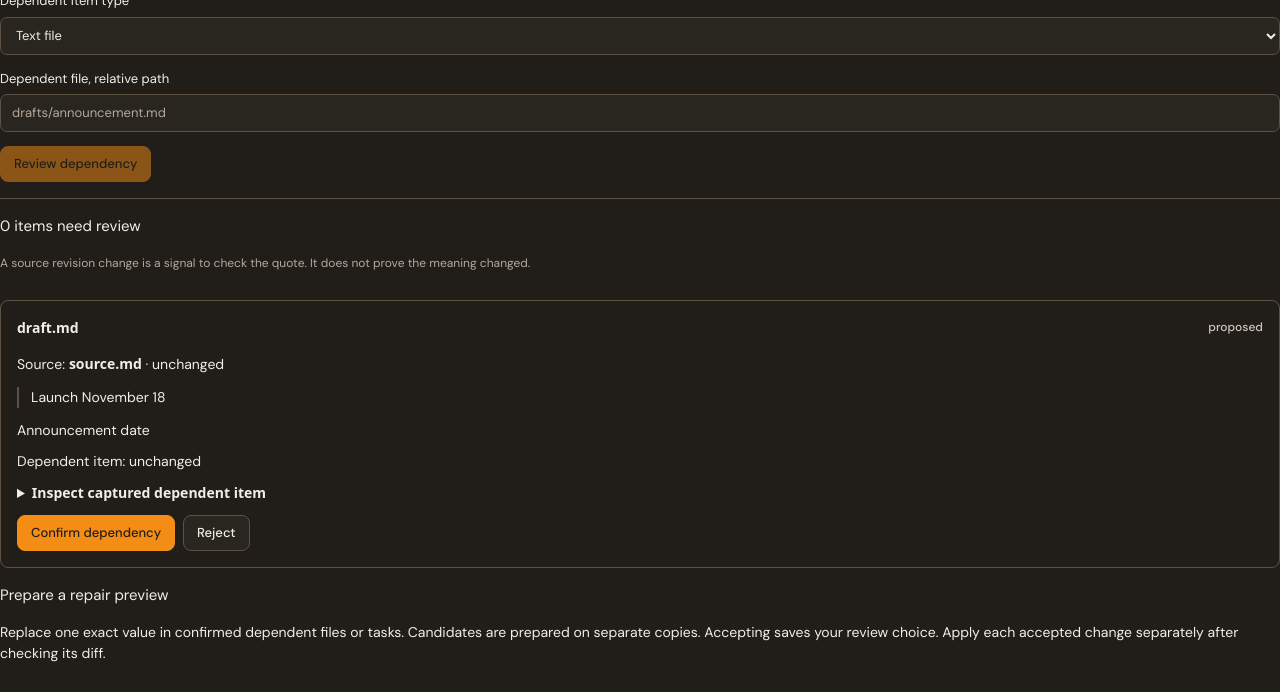
Scenario: shows quote and dependent preview before confirmation and exposes changed-source impact
The width and height of the screenshot is (1280, 692).
(page scrolled)
Expected: the text "Announcement date" is shown, [17,421,150,439]
Step 1. Click the button "Confirm dependency" → (96, 533), box [17,515,175,551]
(page scrolled)
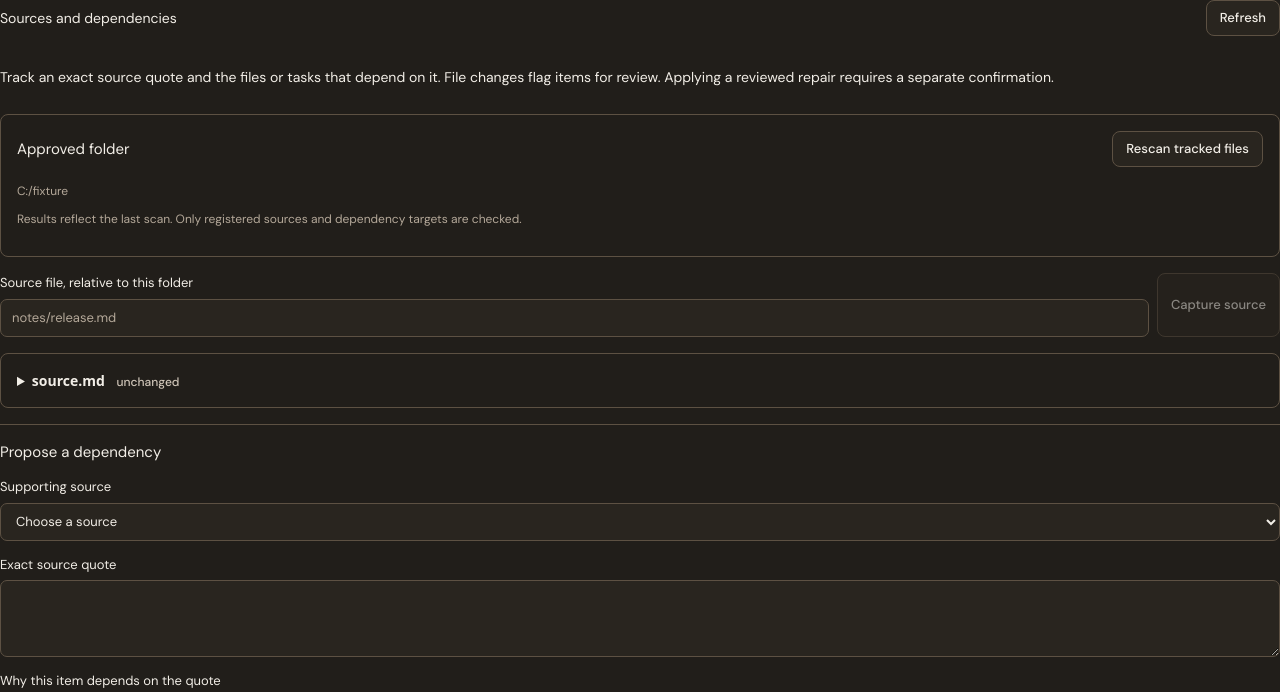
Result: the button "Confirm dependency" is gone
Step 2. Click the button "Rescan tracked files" → (1188, 149), box [1112,131,1263,167]
(page scrolled)
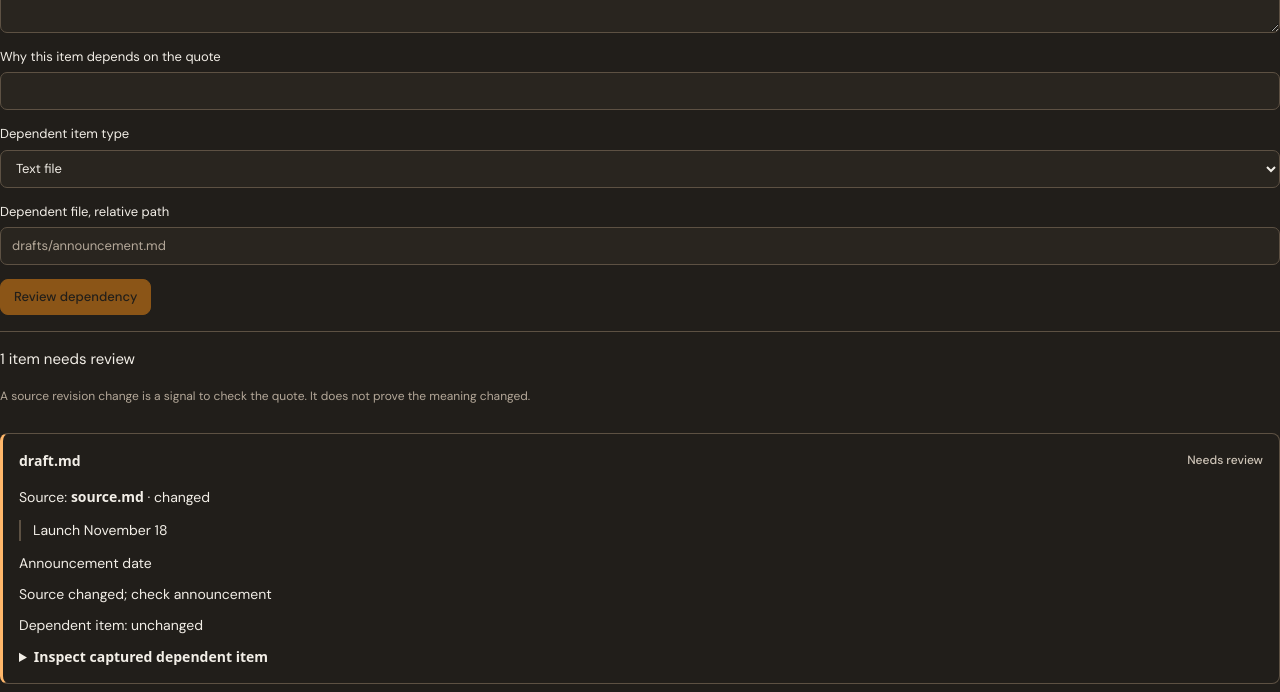
Result: the text "Source changed; check announcement" is shown at [19,585,272,603]
Result: the heading "1 item needs review" is shown at [0,349,135,369]
